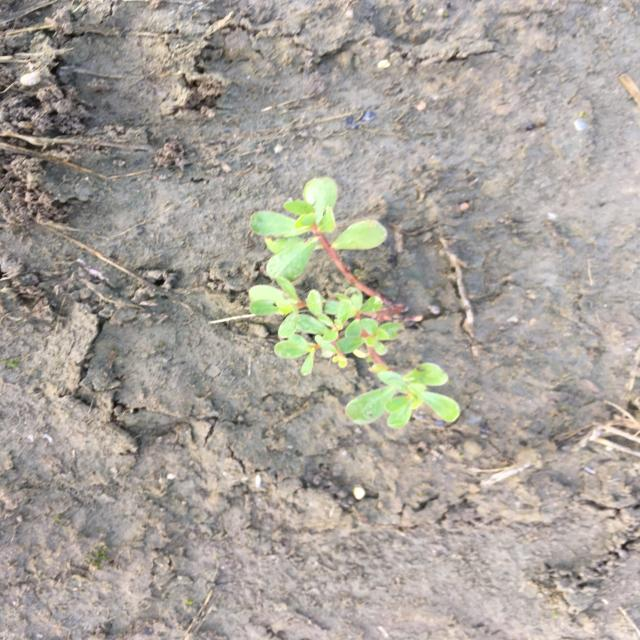Purslane: (245, 175, 465, 430)
